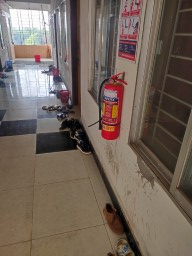fire_extinguisher: (54, 85, 105, 124)
